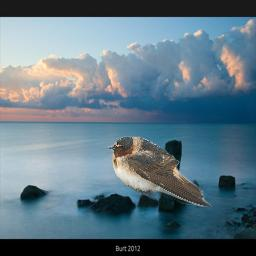Swallow: (108, 136, 212, 207)
